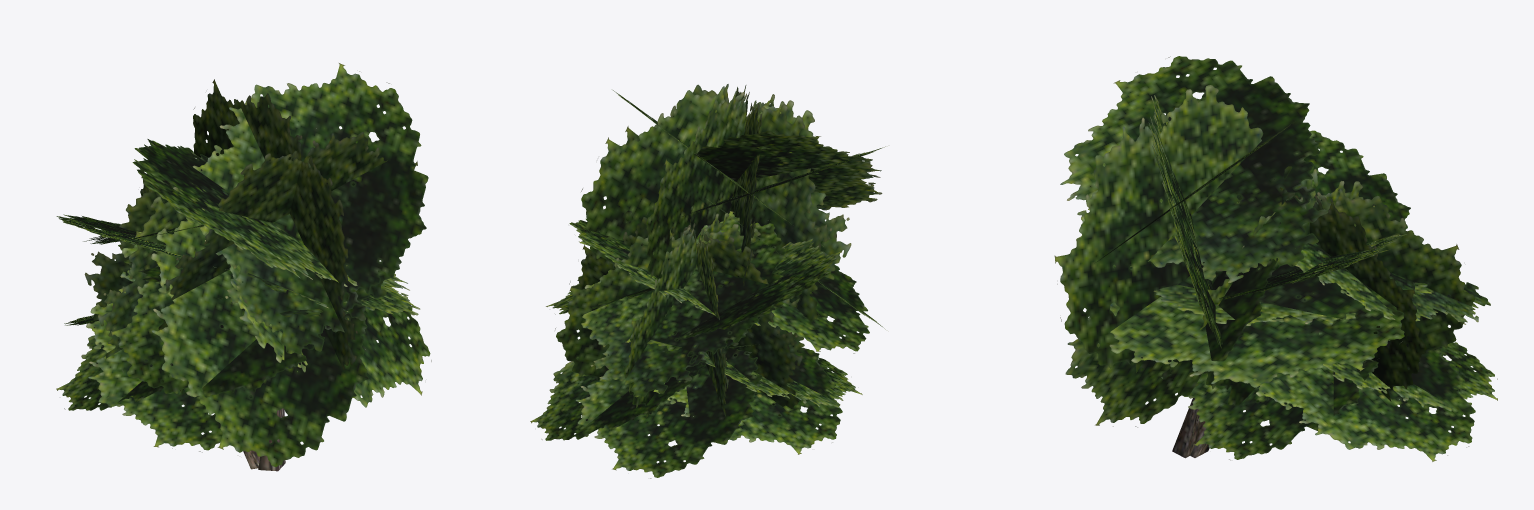
The model's file is TREE1.FBX.
3 views of the same model, side by side, from view 1: azimuth 30°, elevation 25°; view 2: azimuth 150°, elevation 25°; view 3: azimuth 270°, elevation 25° (orthographic). The views are drawn at different scales.
Parts seen in each view (by area): view 1: Plane002; view 2: Plane002; view 3: Plane002.
Part boxes in pixels (x1,y1,x2,y2): Plane002: (56, 63, 431, 471); Plane002: (530, 84, 885, 478); Plane002: (1054, 56, 1497, 461).
Size of the model in its own units: 1459 by 1529 by 1748.
1 material, 1 textured.
